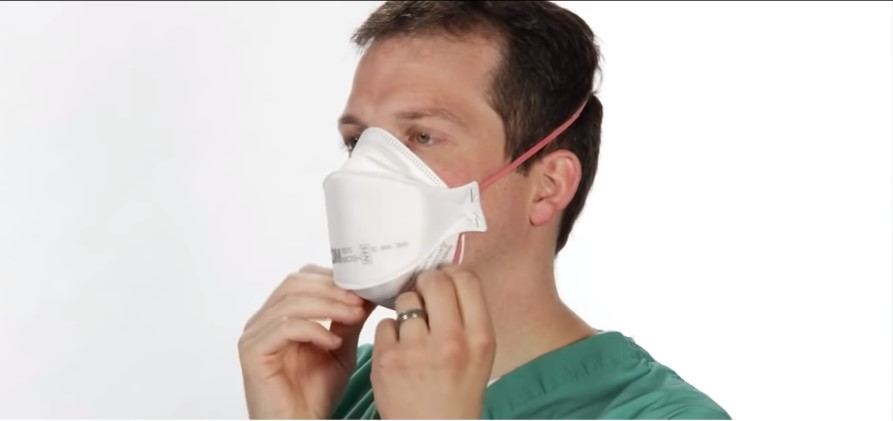face_with_mask: (319, 11, 592, 310)
